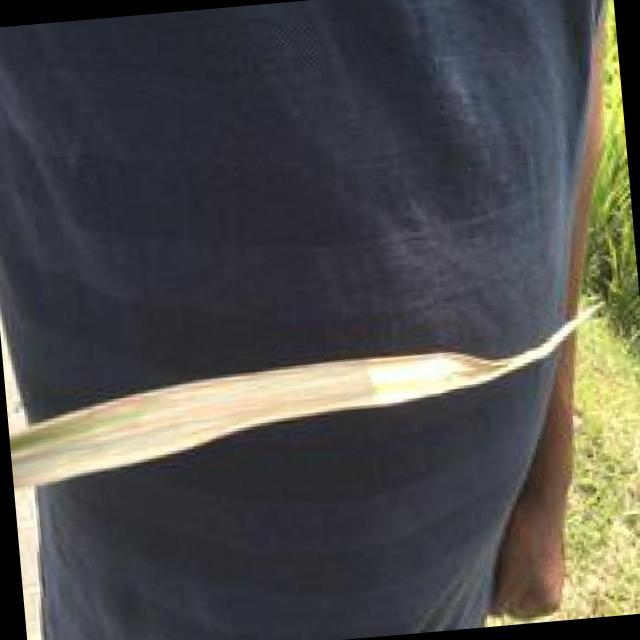Rice_Bacterial_Blight: (14, 345, 564, 464)
